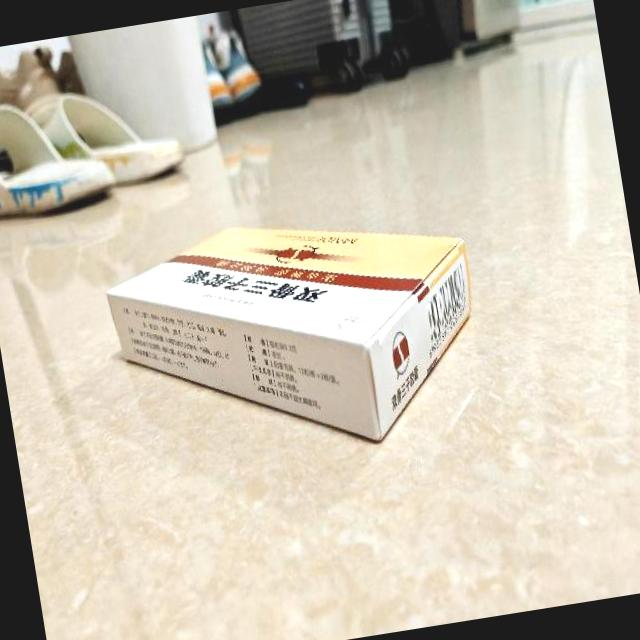box: (99, 188, 493, 482)
